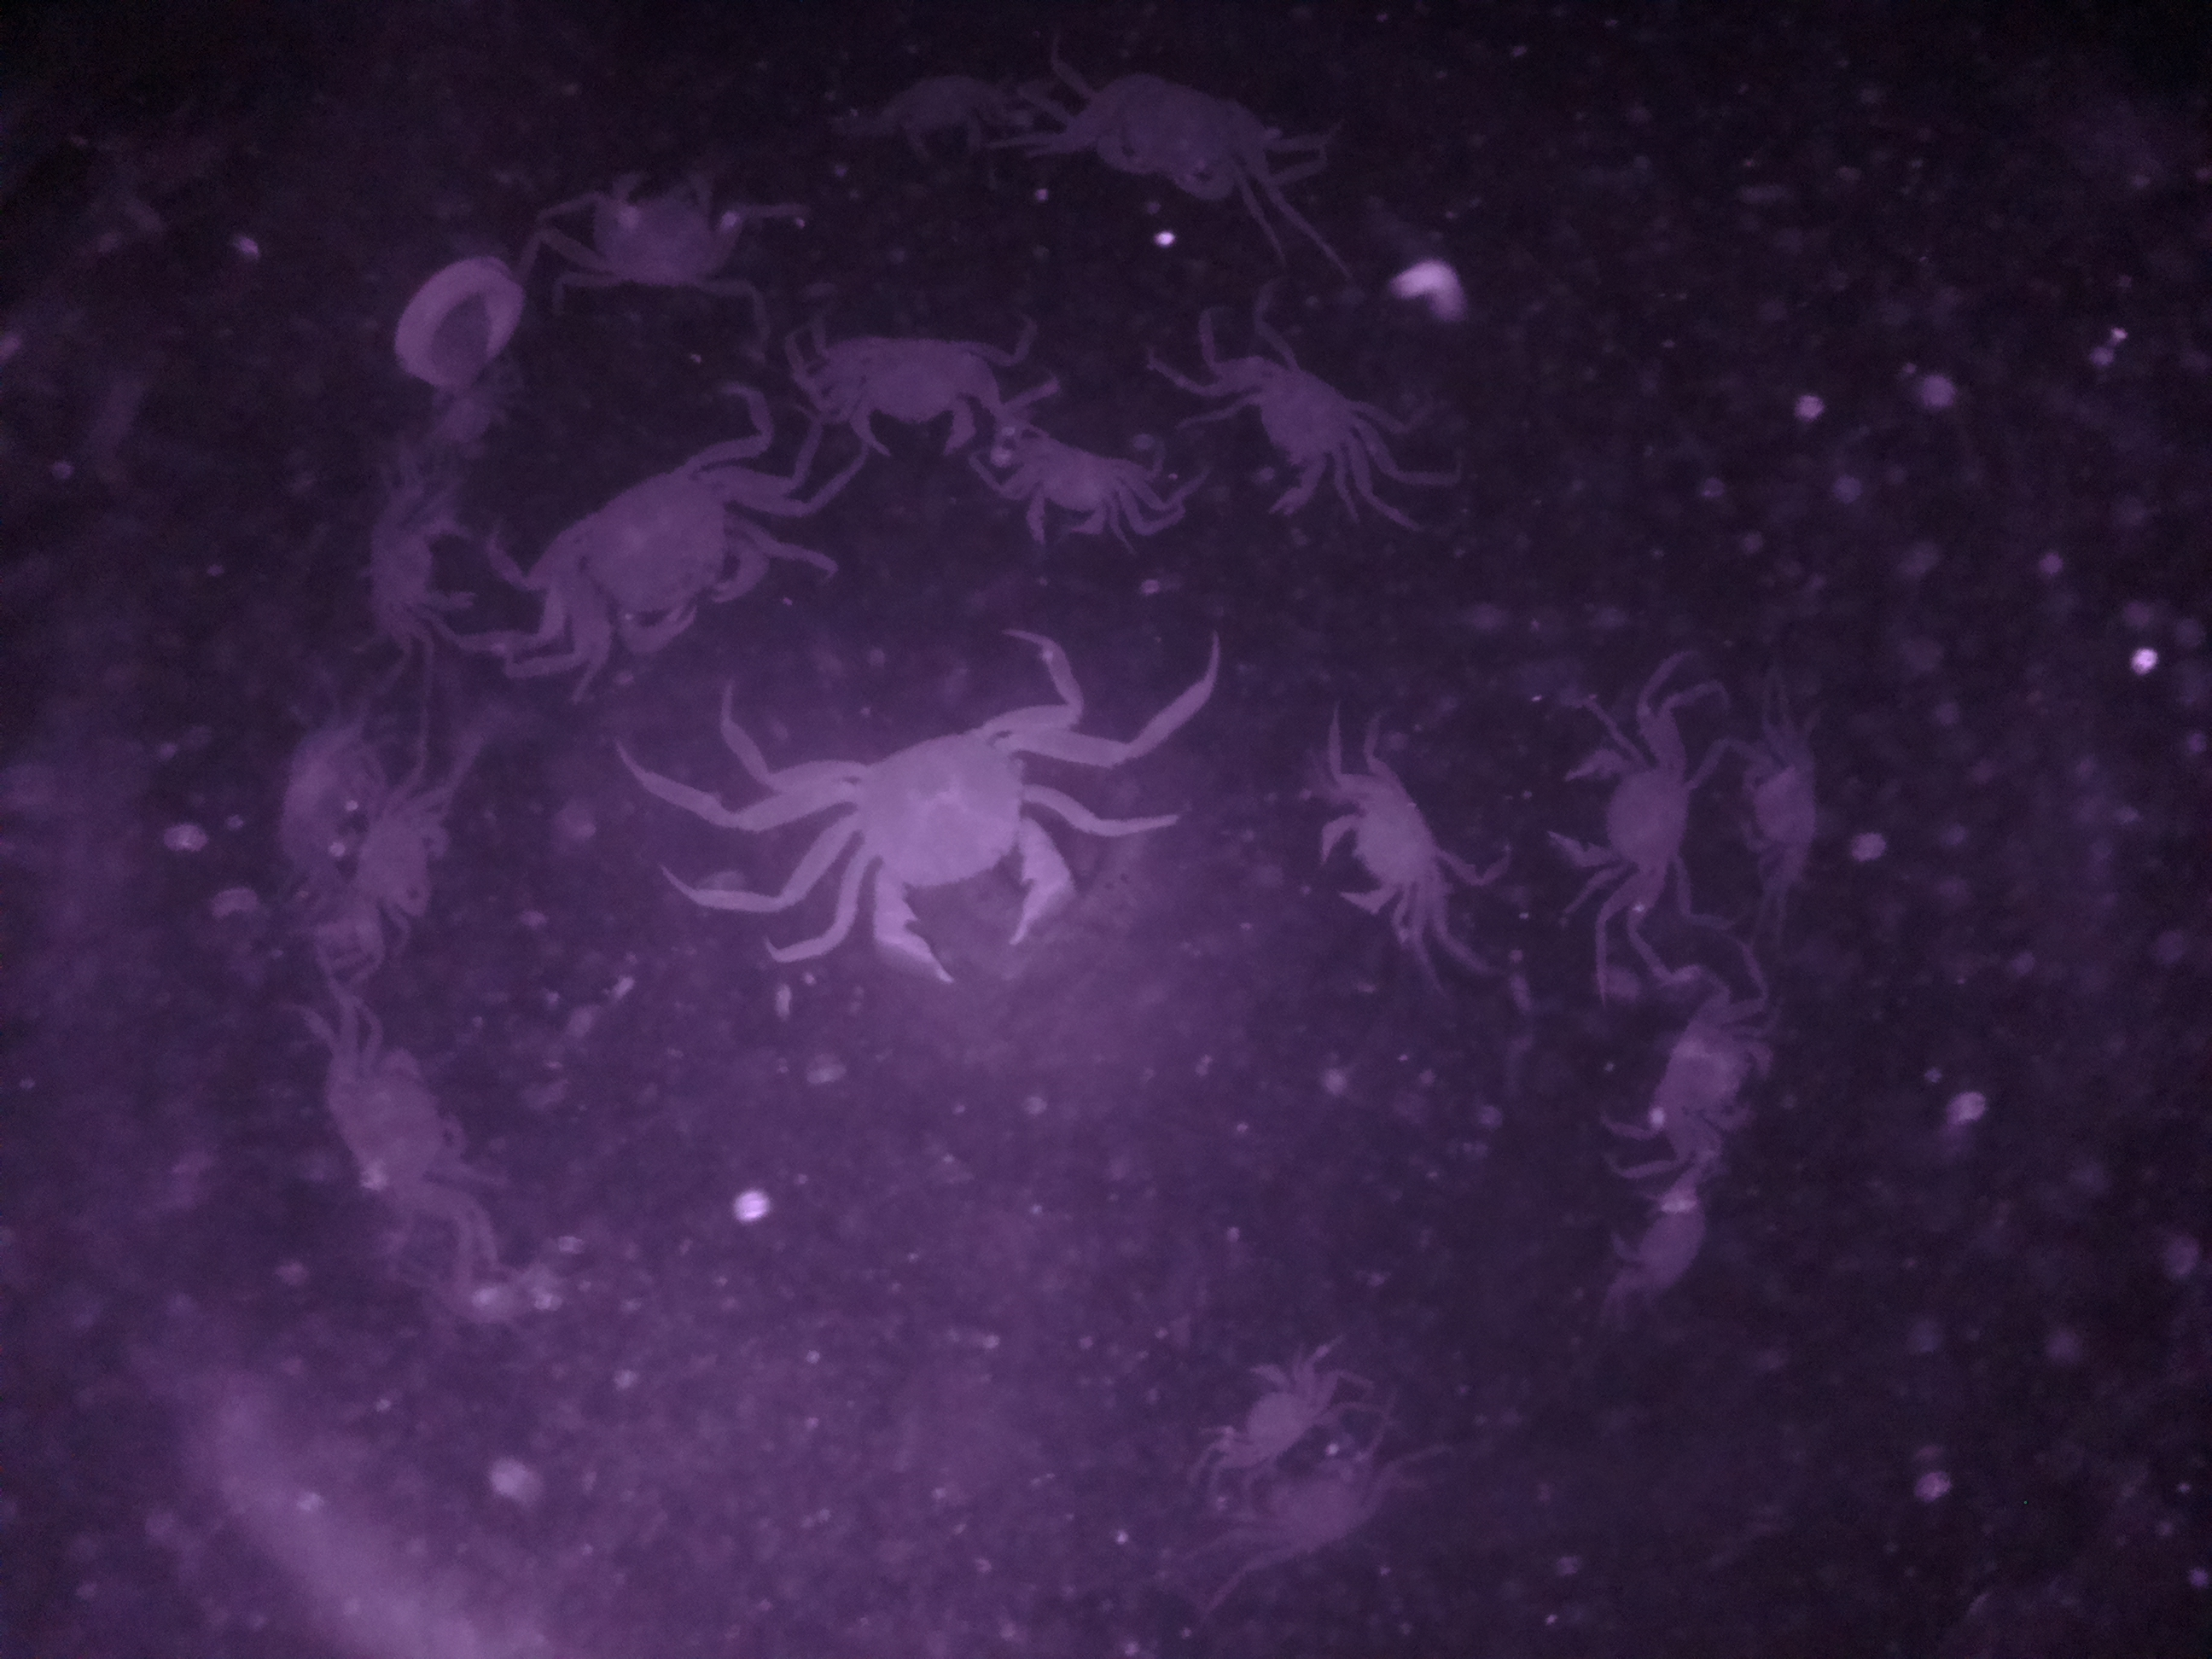Crab: (829, 685, 1092, 995), (552, 443, 782, 678), (1538, 744, 1705, 913), (1299, 770, 1451, 948), (1216, 345, 1371, 516), (561, 152, 737, 298), (820, 328, 988, 462), (991, 425, 1143, 552), (334, 777, 455, 920)
